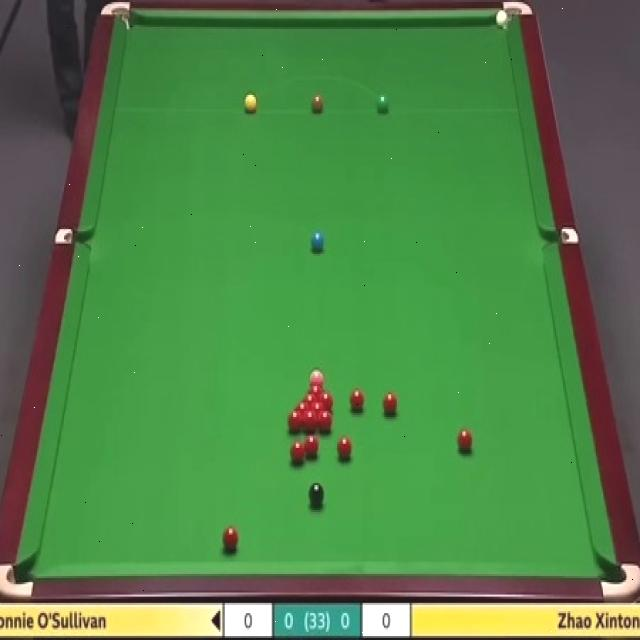black-ball: (308, 482, 324, 505)
blue-ball: (310, 231, 323, 253)
brown-ball: (310, 93, 324, 112)
green-ball: (376, 94, 390, 112)
pink-ball: (308, 371, 323, 385)
red-ball: (221, 526, 238, 552), (317, 408, 333, 434), (290, 441, 305, 467), (382, 392, 398, 416), (302, 408, 317, 433), (336, 436, 352, 457), (287, 409, 303, 430), (305, 435, 318, 460), (350, 388, 364, 411), (458, 428, 472, 449), (310, 402, 328, 418), (319, 392, 333, 412), (302, 392, 319, 408), (308, 383, 324, 399), (294, 402, 310, 414)
yellow-ball: (243, 93, 257, 112)
